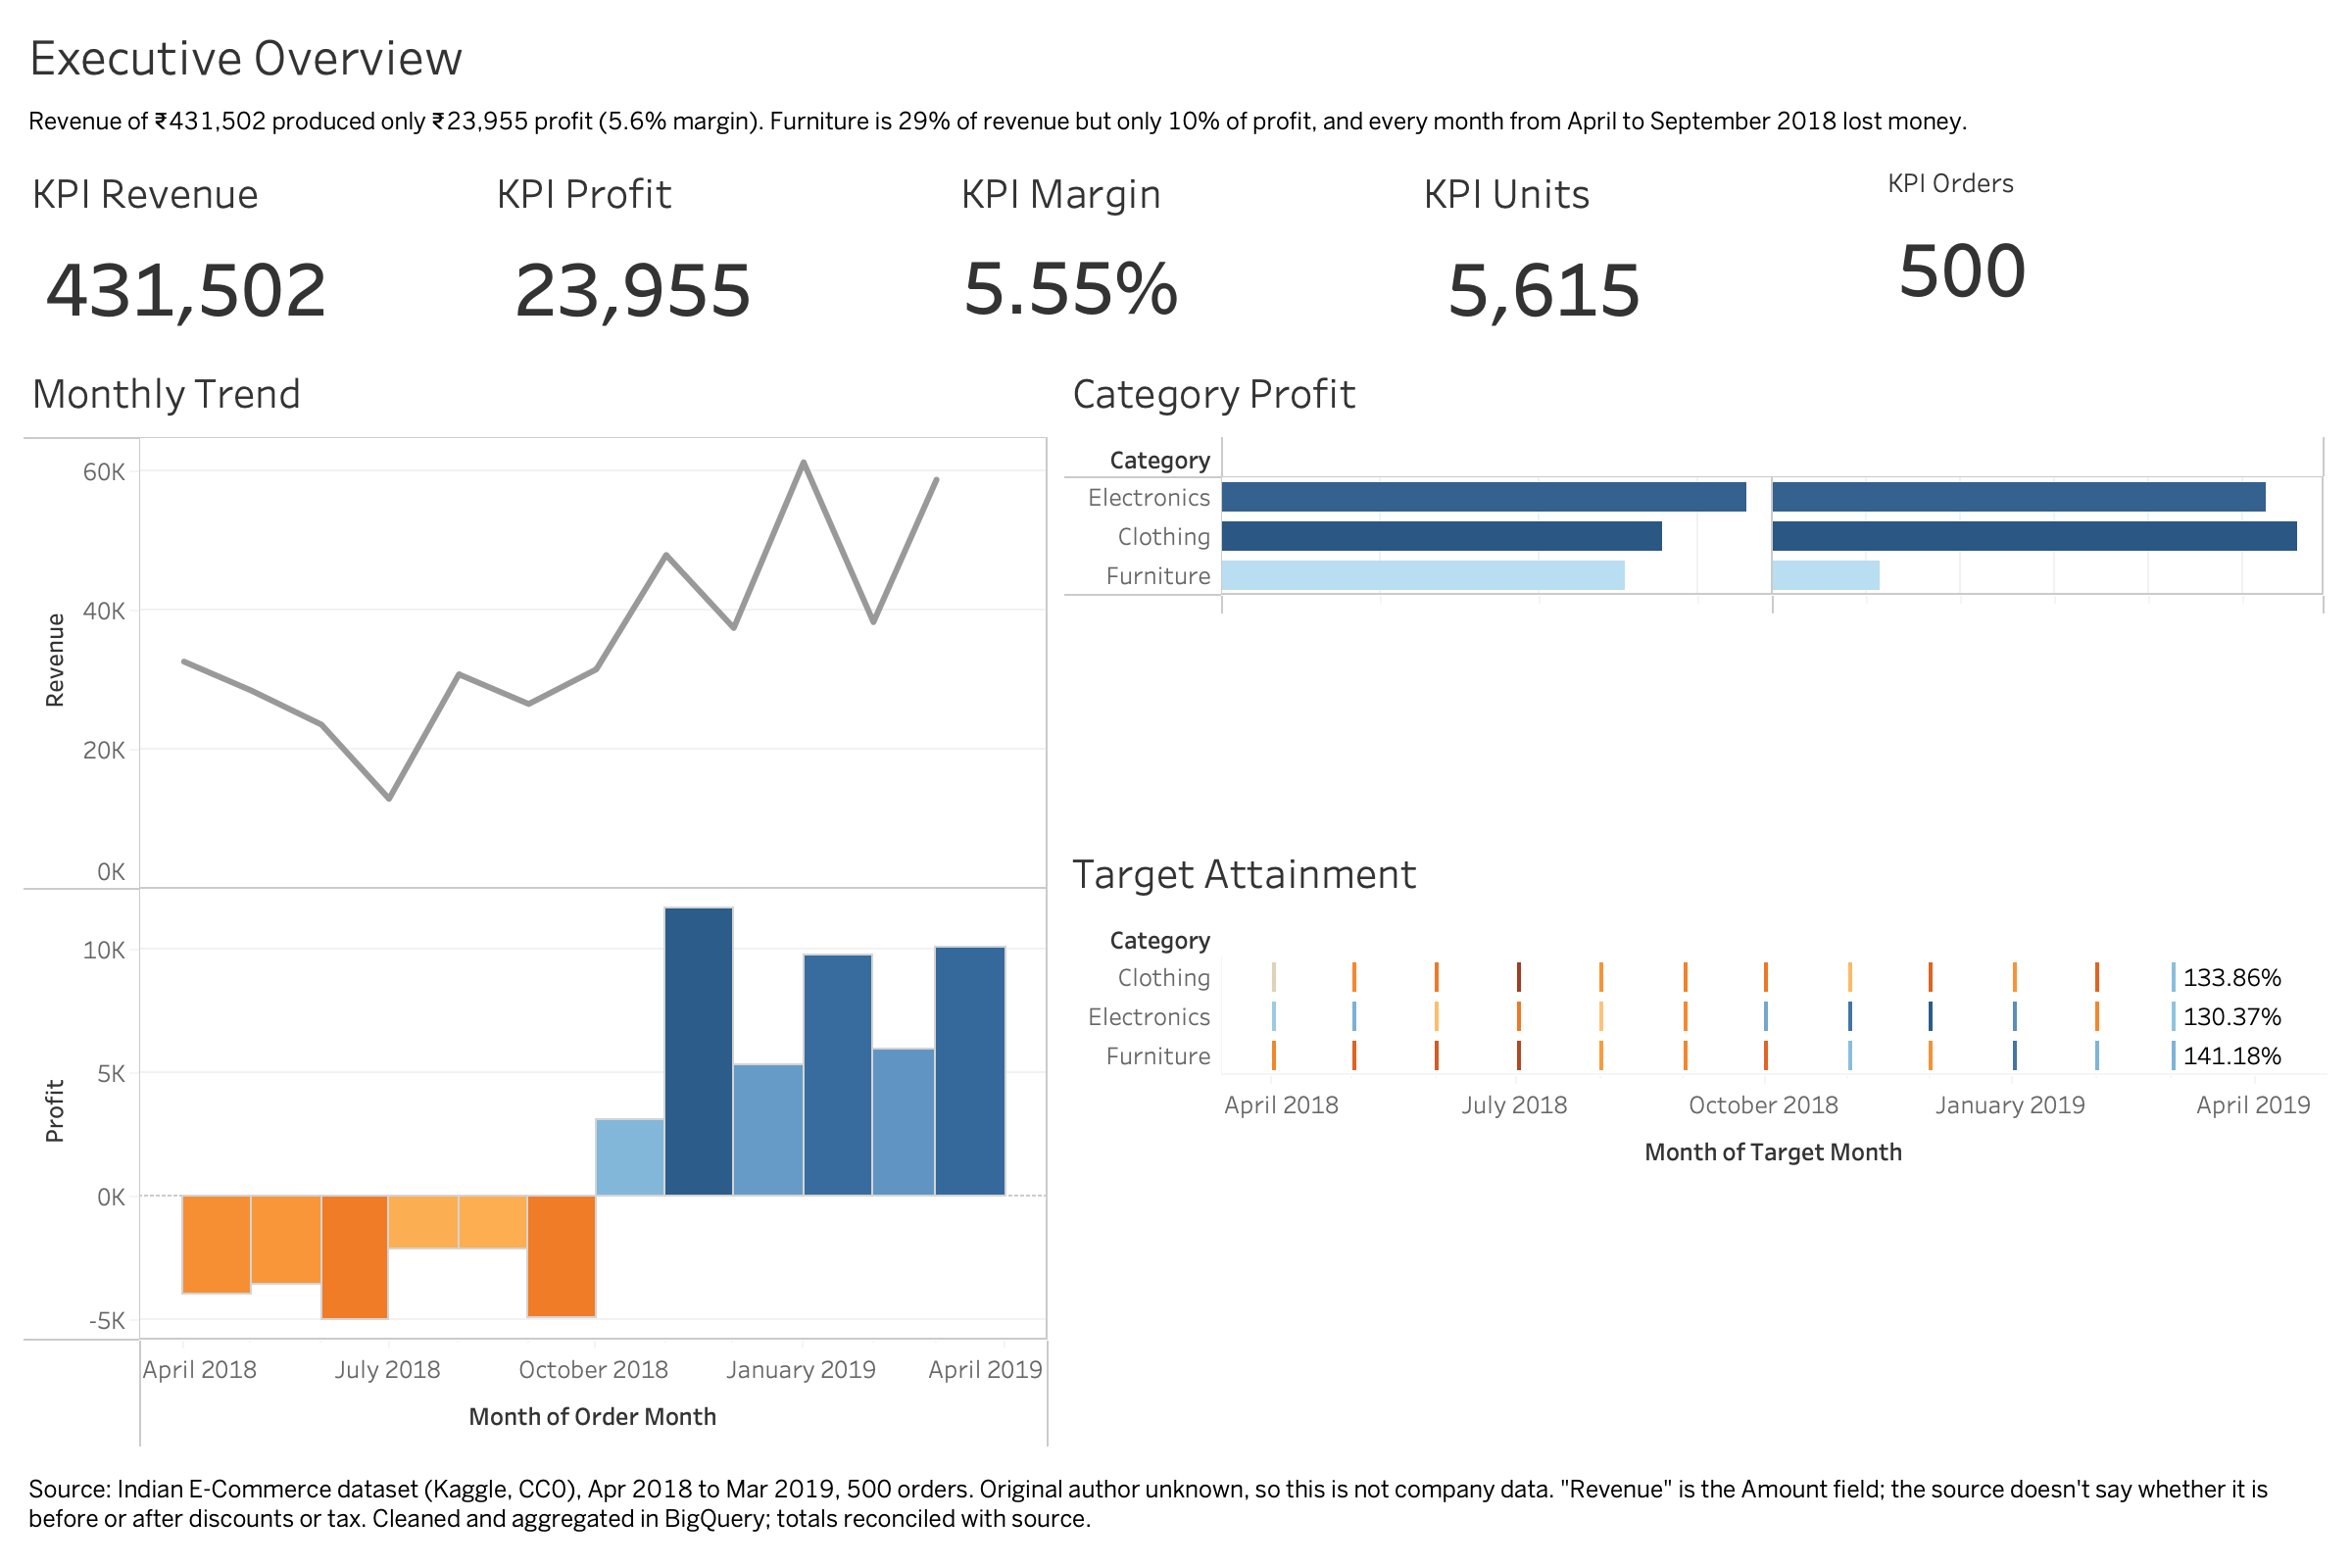

The dashboard page shown, as its layout file describes it:
{"tool":"tableau","page":{"name":"Executive Overview","canvas":[1000,1000],"units":"permille","ordinal":0},"visuals":[{"type":"title","box":[6.4,11.1,987.3,58.1]},{"type":"text","box":[6.4,69.2,987.3,33.2]},{"type":"worksheet","title":"KPI Revenue","mark":"Automatic","box":[6.4,102.4,201.2,141.1]},{"type":"worksheet","title":"KPI Profit","mark":"Automatic","box":[207.6,102.4,195.4,141.1]},{"type":"worksheet","title":"KPI Margin","mark":"Automatic","box":[403,102.4,201.2,141.1]},{"type":"worksheet","title":"KPI Units","mark":"Automatic","box":[604.2,102.4,188.2,141.1]},{"type":"worksheet","title":"KPI Orders","mark":"Automatic","box":[792.4,102.4,201.2,141.1]},{"type":"worksheet","title":"Monthly Trend","mark":"Automatic","rows":["revenue","profit"],"cols":["order_month"],"box":[6.4,243.5,445.6,686]},{"type":"worksheet","title":"Category Profit","mark":"Automatic","rows":["category"],"cols":["revenue","profit"],"box":[451.9,243.5,541.7,338.9]},{"type":"worksheet","title":"Target Attainment","mark":"Automatic","rows":["category"],"cols":["target_month"],"box":[451.9,582.3,541.7,257.3]},{"type":"text","box":[6.4,929.4,987.3,59.5]}]}

Visuals, with their boxes on the dashboard's canvas, which has no fixed pixel size, in thousandths of its width and height (x1, y1, x2, y2). These are canvas units, not pixel positions in the 2352x1568 screenshot, which may show the page scaled, cropped or inside an application window:
title: bbox=[6, 11, 994, 69]
text: bbox=[6, 69, 994, 102]
"KPI Revenue" worksheet: bbox=[6, 102, 208, 244]
"KPI Profit" worksheet: bbox=[208, 102, 403, 244]
"KPI Margin" worksheet: bbox=[403, 102, 604, 244]
"KPI Units" worksheet: bbox=[604, 102, 792, 244]
"KPI Orders" worksheet: bbox=[792, 102, 994, 244]
"Monthly Trend" worksheet: bbox=[6, 244, 452, 930]
"Category Profit" worksheet: bbox=[452, 244, 994, 582]
"Target Attainment" worksheet: bbox=[452, 582, 994, 840]
text: bbox=[6, 929, 994, 989]
